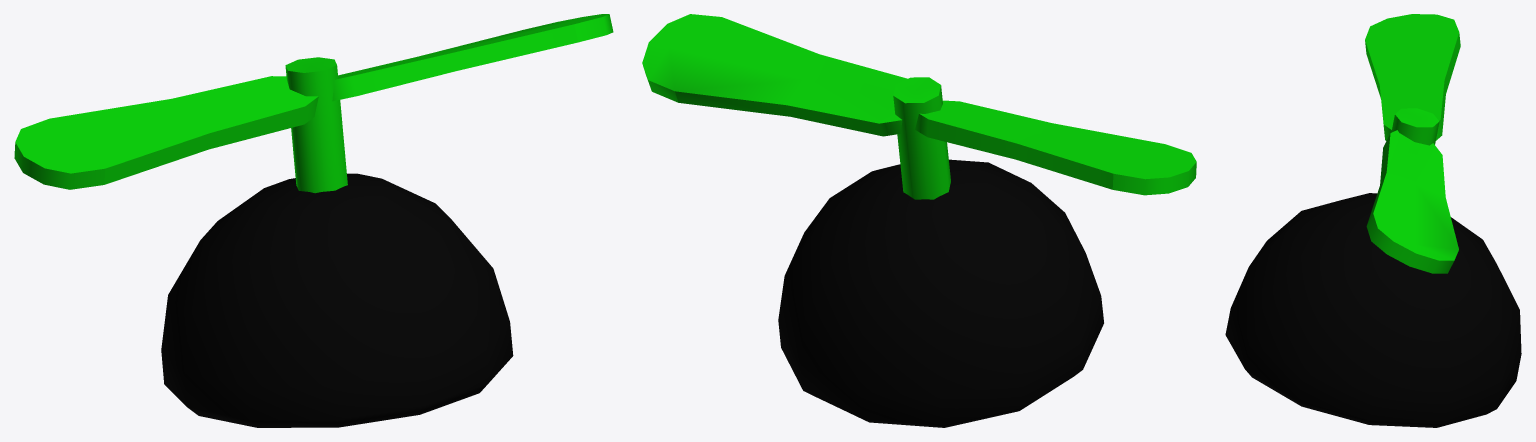
The model's file is Propellerx_hat_mesh.fbx.
The picture shows the model from 3 angles, left to right: view 1: azimuth 30°, elevation 25°; view 2: azimuth 150°, elevation 25°; view 3: azimuth 270°, elevation 25°; orthographic projection. The views are drawn at different scales.
Visible parts, largest first — view 1: Propeller_Hat_mesh; view 2: Propeller_Hat_mesh; view 3: Propeller_Hat_mesh.
Boxes of the visible parts, <box> form: Propeller_Hat_mesh: <box>14,14,613,427</box>; Propeller_Hat_mesh: <box>642,14,1196,427</box>; Propeller_Hat_mesh: <box>1225,14,1521,427</box>.
Bounding box in the file's own units: 0.7512 × 0.4018 × 0.3933.
